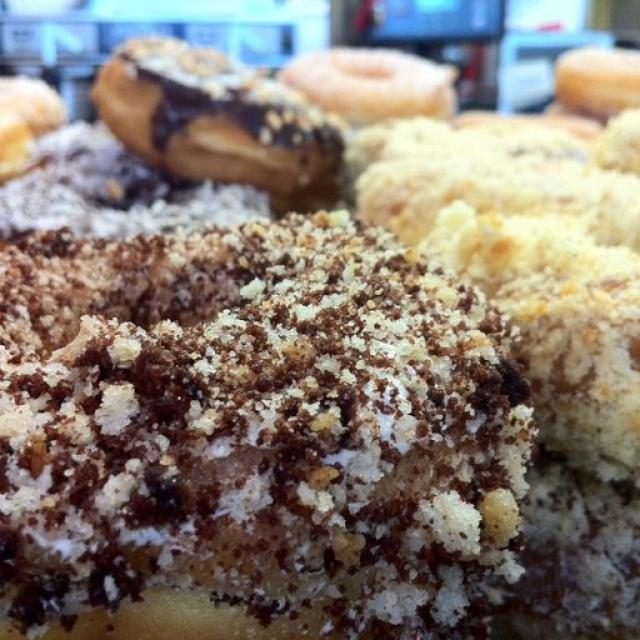Donuts: (7, 1, 640, 617)
